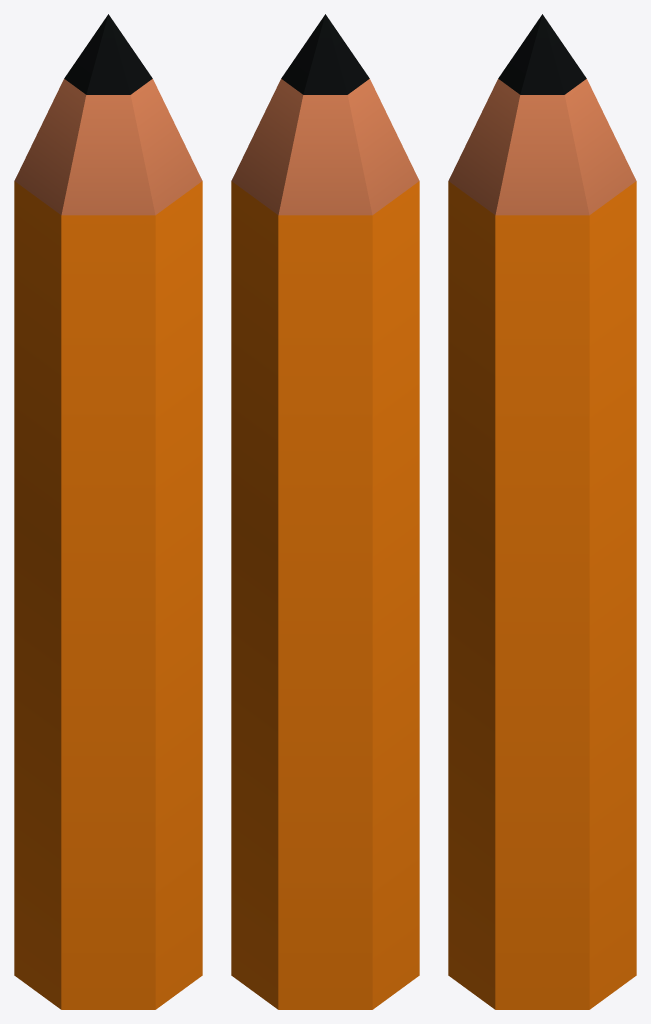
File: pencil.obj
The picture shows the model from 3 angles, left to right: view 1: azimuth 30°, elevation 25°; view 2: azimuth 150°, elevation 25°; view 3: azimuth 270°, elevation 25°; orthographic projection.
Parts seen in each view (by area): view 1: pencil_Cylinder.114; view 2: pencil_Cylinder.114; view 3: pencil_Cylinder.114.
Boxes of the visible parts, box(x1,y1,x2,y2) form: pencil_Cylinder.114: box(14, 14, 202, 1009); pencil_Cylinder.114: box(231, 14, 419, 1009); pencil_Cylinder.114: box(448, 14, 636, 1009).
Size of the model in its own units: 0.0667 by 0.4398 by 0.077.
